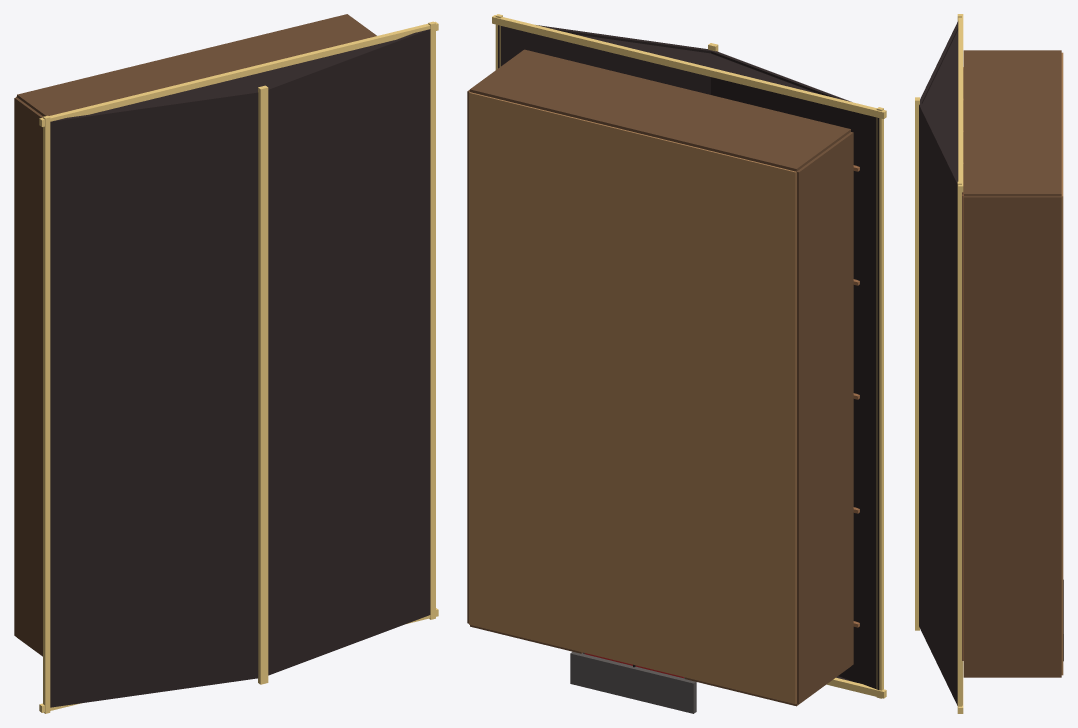
The model's file is room-1780237351653-rebel_arcade.glb.
3 renders of one model, left to right at view 1: azimuth 30°, elevation 25°; view 2: azimuth 150°, elevation 25°; view 3: azimuth 270°, elevation 25°, orthographic. The views are drawn at different scales.
Visible parts, largest first — view 1: corrected_high_roof_left_slope_outside_up, corrected_high_roof_right_slope_outside_up, left_complete_wall, back_complete_wall, corrected_high_roof_center_ridge_cap_gold, corrected_left_roof_low_eave_gold_trim, corrected_right_roof_low_eave_gold_trim, corrected_back_roof_overhang_high_clearance, corrected_back_triangular_roof_cap_complete; view 2: main_polished_wood_floor_walkable, left_complete_wall, back_complete_wall, corrected_high_roof_left_slope_outside_up, corrected_high_roof_right_slope_outside_up, entry_stone_step_lower, corrected_left_roof_low_eave_gold_trim, corrected_back_roof_overhang_high_clearance, corrected_back_triangular_roof_cap_complete, right_complete_wall; view 3: right_complete_wall, corrected_high_roof_right_slope_outside_up, back_complete_wall, corrected_back_triangular_roof_cap_complete, corrected_right_roof_low_eave_gold_trim, corrected_high_roof_center_ridge_cap_gold, main_polished_wood_floor_walkable, corrected_back_roof_overhang_high_clearance, raised_ceiling_length_beam_x_+8, corrected_high_roof_left_slope_outside_up.
Part boxes in pixels (x1=…): corrected_high_roof_left_slope_outside_up: x1=50, y1=91, x2=258, y2=707; corrected_high_roof_right_slope_outside_up: x1=268, y1=29, x2=430, y2=675; left_complete_wall: x1=14, y1=97, x2=42, y2=656; back_complete_wall: x1=17, y1=14, x2=376, y2=116; corrected_high_roof_center_ridge_cap_gold: x1=258, y1=85, x2=268, y2=684; corrected_left_roof_low_eave_gold_trim: x1=43, y1=115, x2=50, y2=713; corrected_right_roof_low_eave_gold_trim: x1=428, y1=21, x2=435, y2=619; corrected_back_roof_overhang_high_clearance: x1=39, y1=21, x2=438, y2=126; corrected_back_triangular_roof_cap_complete: x1=90, y1=40, x2=394, y2=114; main_polished_wood_floor_walkable: x1=469, y1=92, x2=796, y2=704; left_complete_wall: x1=796, y1=132, x2=853, y2=703; back_complete_wall: x1=470, y1=49, x2=850, y2=171; corrected_high_roof_left_slope_outside_up: x1=711, y1=50, x2=879, y2=689; corrected_high_roof_right_slope_outside_up: x1=498, y1=25, x2=711, y2=94; entry_stone_step_lower: x1=570, y1=651, x2=696, y2=713; corrected_left_roof_low_eave_gold_trim: x1=876, y1=107, x2=883, y2=698; corrected_back_roof_overhang_high_clearance: x1=492, y1=15, x2=886, y2=118; corrected_back_triangular_roof_cap_complete: x1=553, y1=29, x2=834, y2=97; right_complete_wall: x1=467, y1=89, x2=469, y2=623; right_complete_wall: x1=963, y1=196, x2=1061, y2=676; corrected_high_roof_right_slope_outside_up: x1=919, y1=103, x2=962, y2=705; back_complete_wall: x1=963, y1=50, x2=1061, y2=196; corrected_back_triangular_roof_cap_complete: x1=921, y1=29, x2=958, y2=178; corrected_right_roof_low_eave_gold_trim: x1=957, y1=181, x2=961, y2=713; corrected_high_roof_center_ridge_cap_gold: x1=915, y1=97, x2=919, y2=630; main_polished_wood_floor_walkable: x1=1061, y1=52, x2=1063, y2=675; corrected_back_roof_overhang_high_clearance: x1=958, y1=14, x2=963, y2=192; raised_ceiling_length_beam_x_+8: x1=962, y1=194, x2=963, y2=660; corrected_high_roof_left_slope_outside_up: x1=920, y1=21, x2=958, y2=102.
Bounding box in the file's own units: 21.6 × 31.3 × 7.89.
